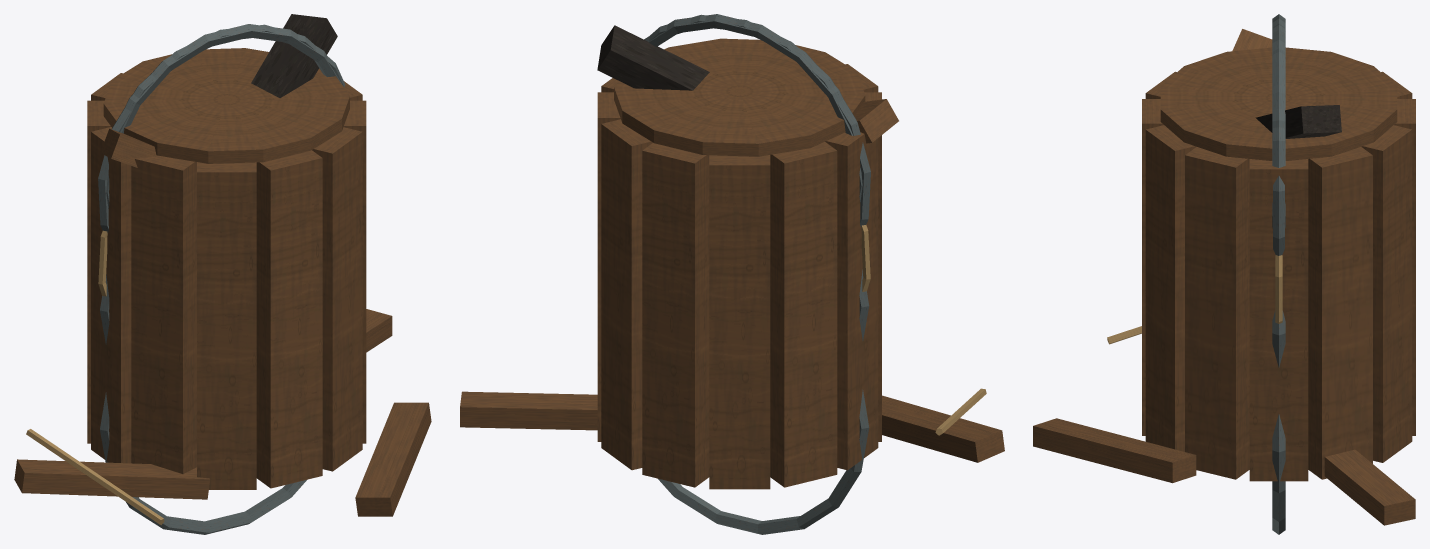
Rendered from en-003_barrel_container_wreckage__broken.obj.
The picture shows the model from 3 angles, left to right: view 1: azimuth 30°, elevation 25°; view 2: azimuth 150°, elevation 25°; view 3: azimuth 270°, elevation 25°; orthographic projection. The views are drawn at different scales.
Visible parts, largest first — view 1: en-003_barrel_container_wreckage__broken; view 2: en-003_barrel_container_wreckage__broken; view 3: en-003_barrel_container_wreckage__broken.
Part boxes in pixels (x1,y1,x2,y2): en-003_barrel_container_wreckage__broken: (14,14,431,534); en-003_barrel_container_wreckage__broken: (460,14,1004,534); en-003_barrel_container_wreckage__broken: (1033,14,1415,534).
Bounding box in the file's own units: 1.31 × 1.39 × 0.9785.
4 materials, 4 textured.
